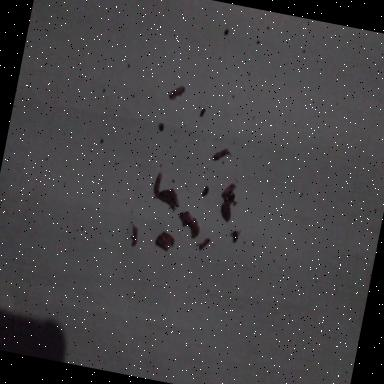pbw: (211, 146, 233, 164), (166, 83, 186, 102)
